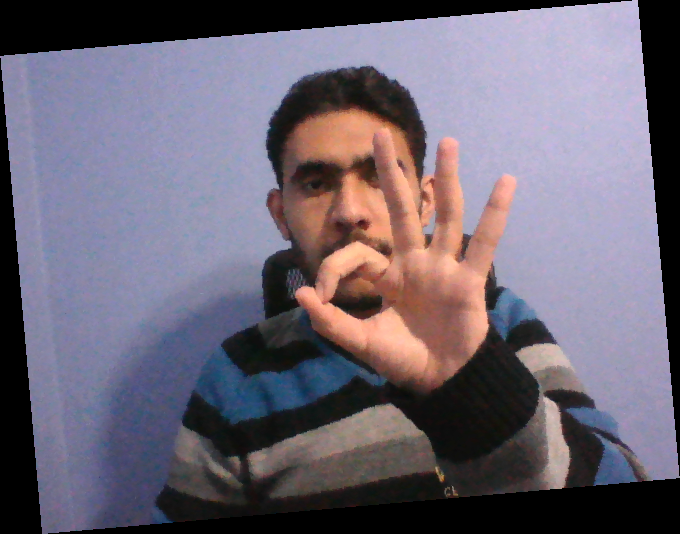F: (298, 123, 511, 403)
